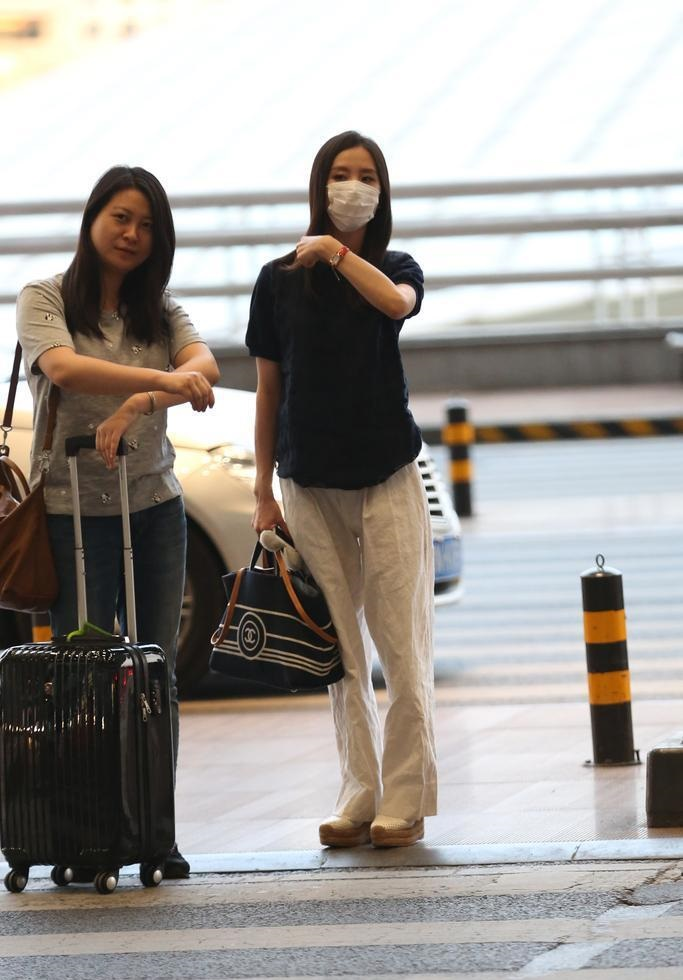face: (96, 190, 153, 270)
face_mask: (325, 146, 378, 231)
